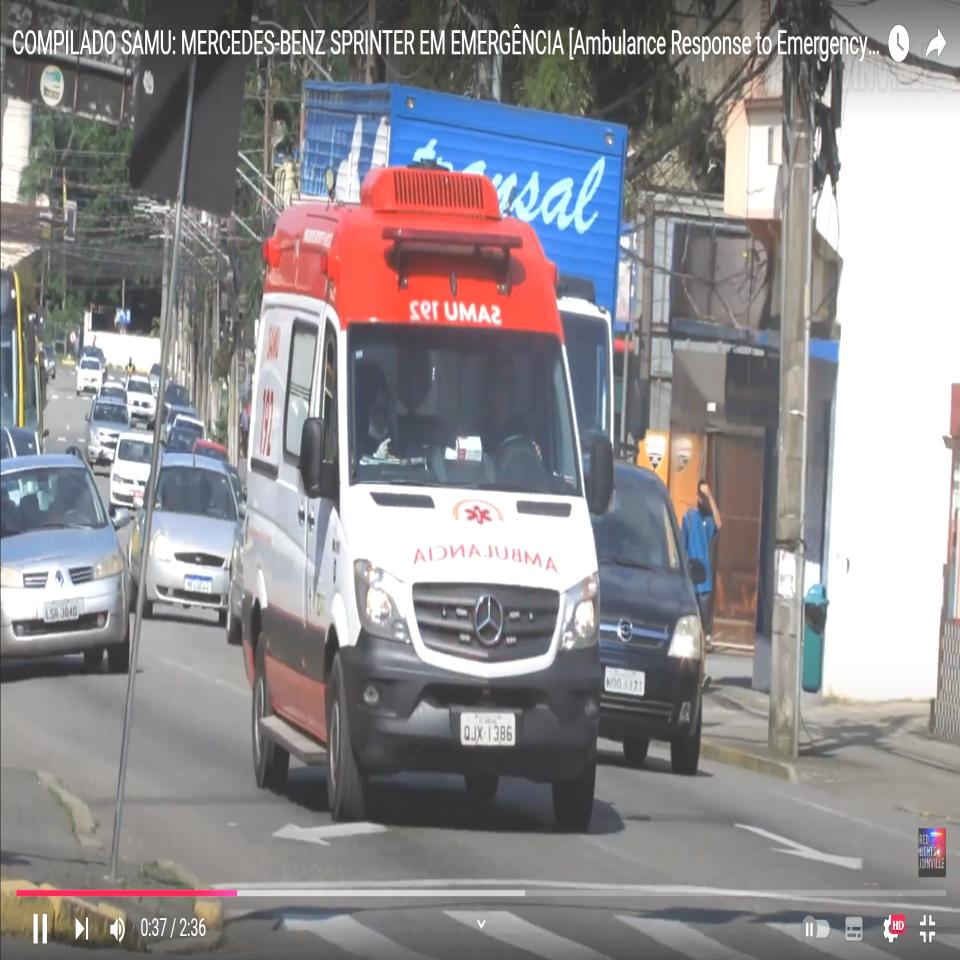ambulancia: (240, 169, 616, 828)
